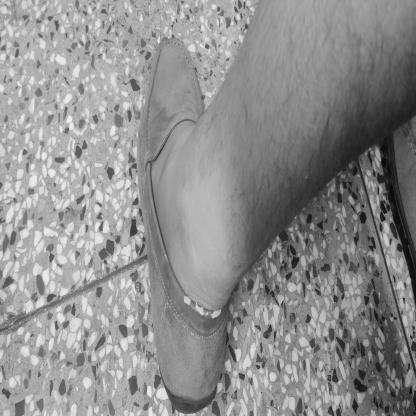ankle: (181, 208, 187, 221)
heel: (192, 395, 196, 405)
left_foot: (138, 40, 231, 414)
pinky: (149, 97, 152, 104)
toe: (188, 54, 191, 62)
